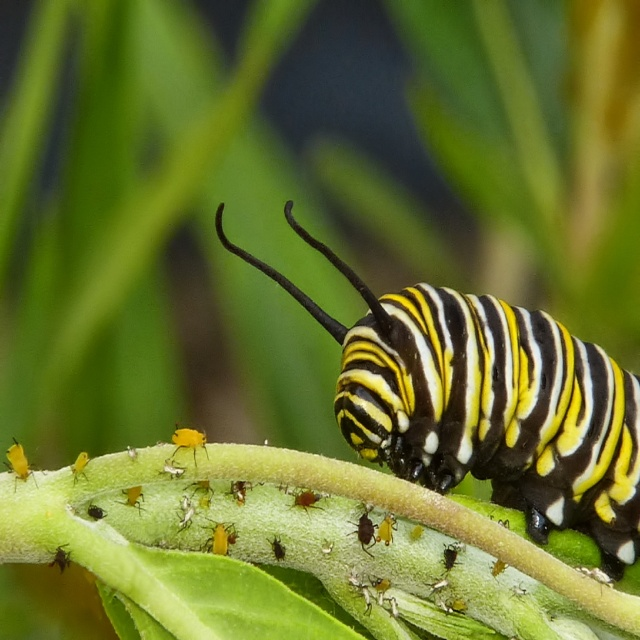Caterpillar: (216, 199, 639, 573)
